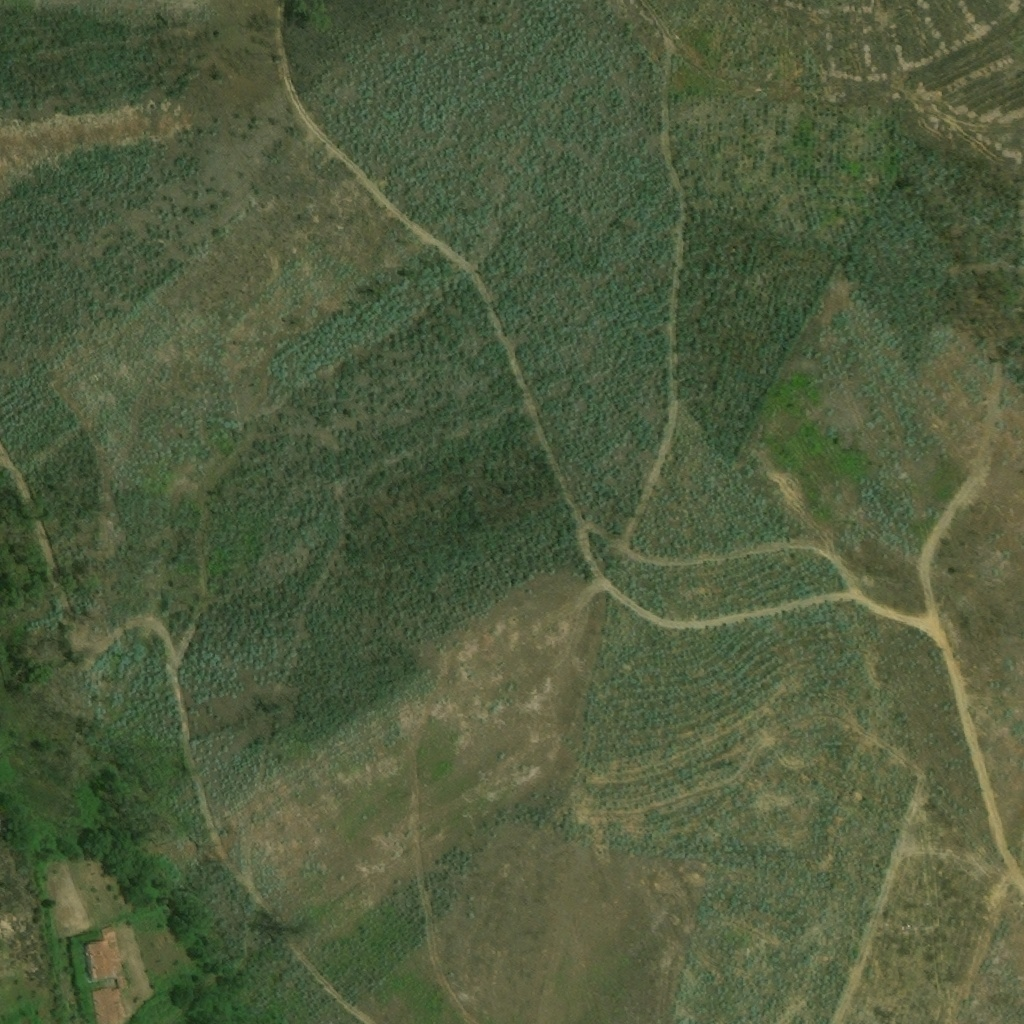0 no-damage: (85, 927, 129, 990), (92, 988, 130, 1023)
